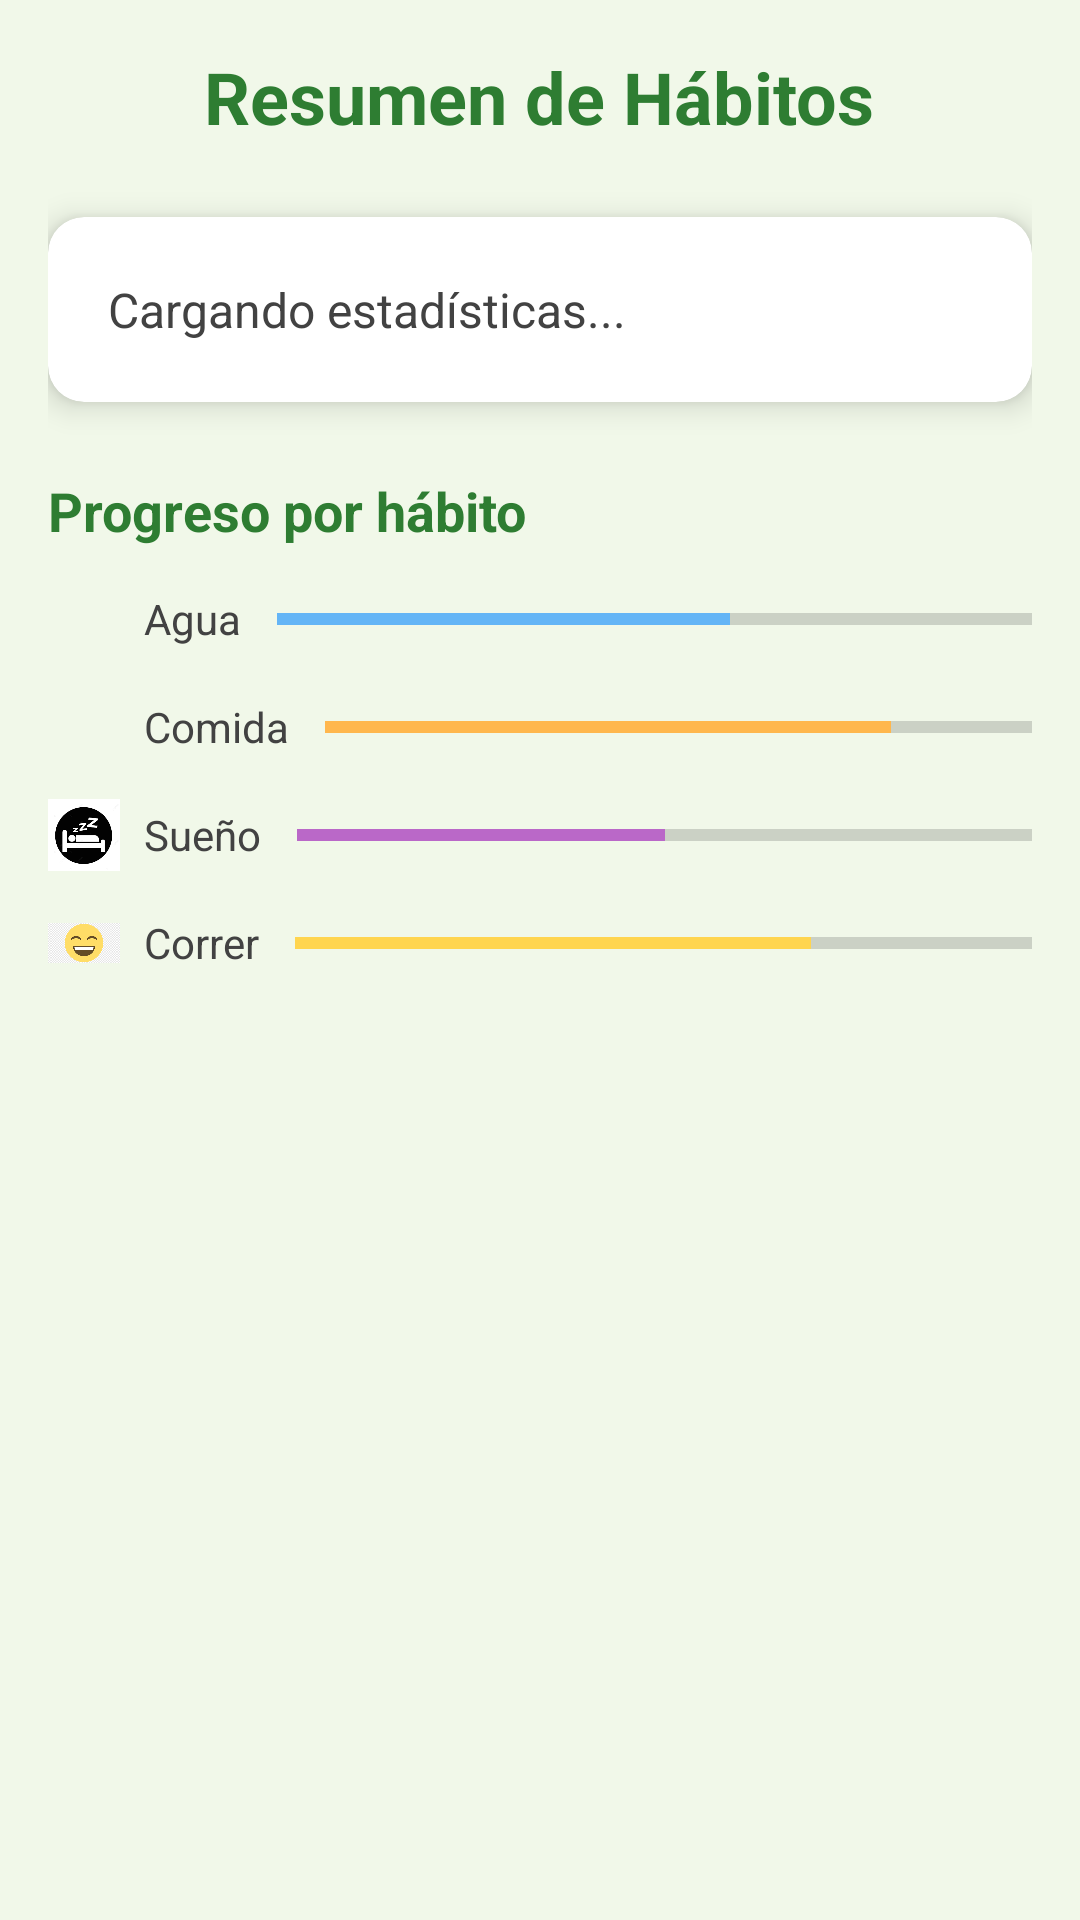

Where icons sit on this 1080 x 1920 app screen, as (x1, y1, x2, y2):
Emociones: (65, 924, 103, 962)
